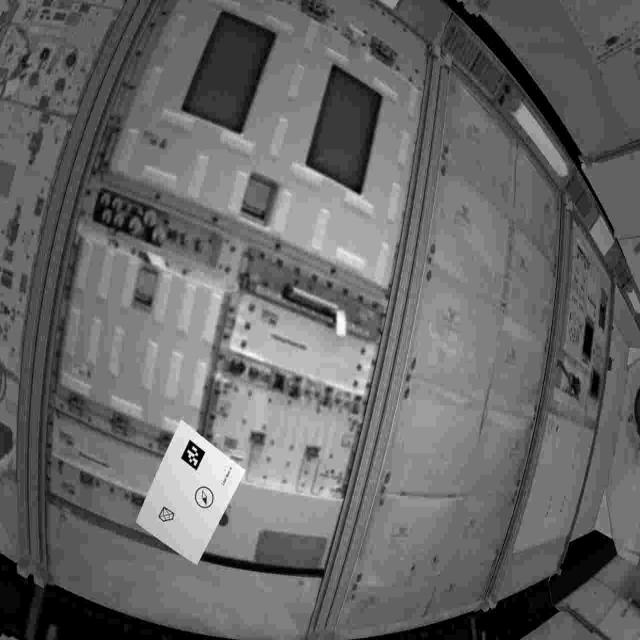compass: (194, 483, 217, 513)
diamond: (157, 501, 177, 527)
